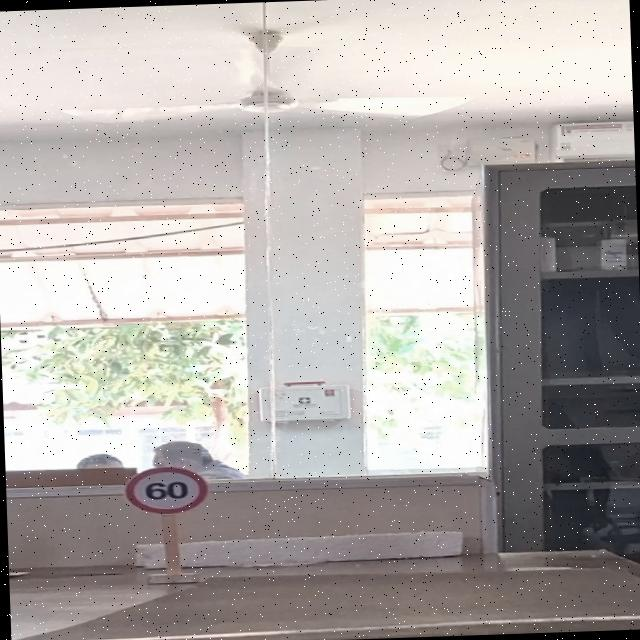Speed60: (123, 462, 211, 516)
